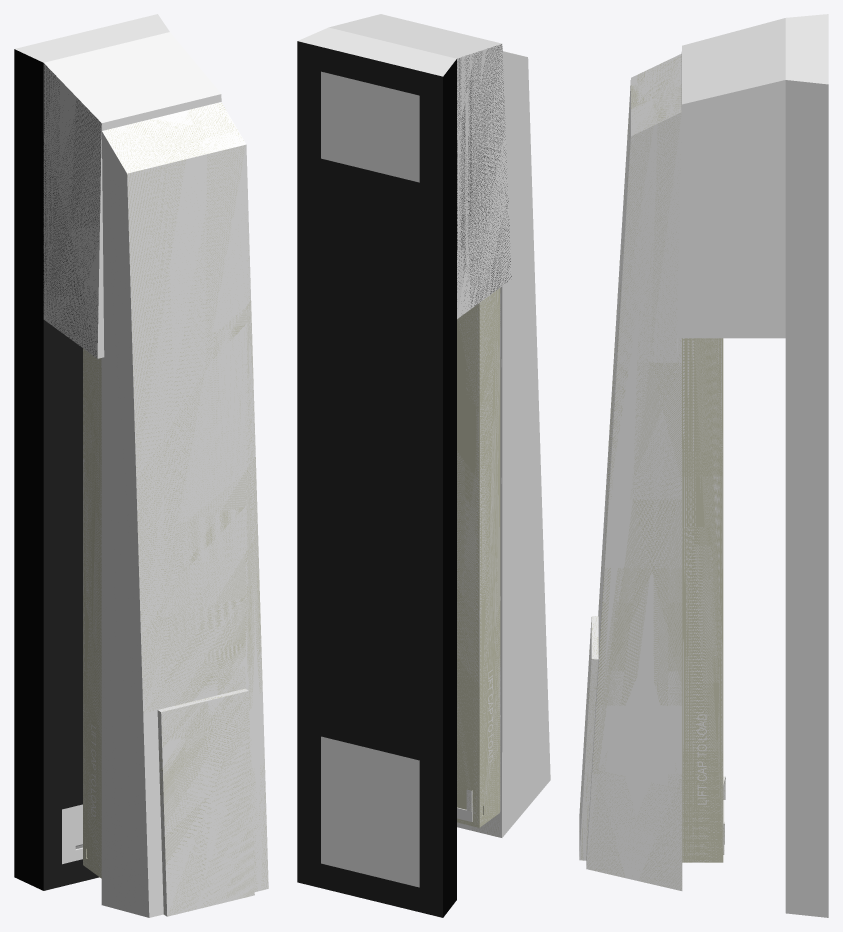
The picture shows the model from 3 angles, left to right: view 1: azimuth 30°, elevation 25°; view 2: azimuth 150°, elevation 25°; view 3: azimuth 270°, elevation 25°; orthographic projection.
Parts seen in each view (by area): view 1: desktop stapler; view 2: desktop stapler; view 3: desktop stapler.
Boxes of the visible parts, x1,y1,x2,y2 form: desktop stapler: (14, 14, 268, 917); desktop stapler: (297, 14, 550, 917); desktop stapler: (579, 14, 828, 917).
Bounding box in the file's own units: 77.25 × 426 × 116.
